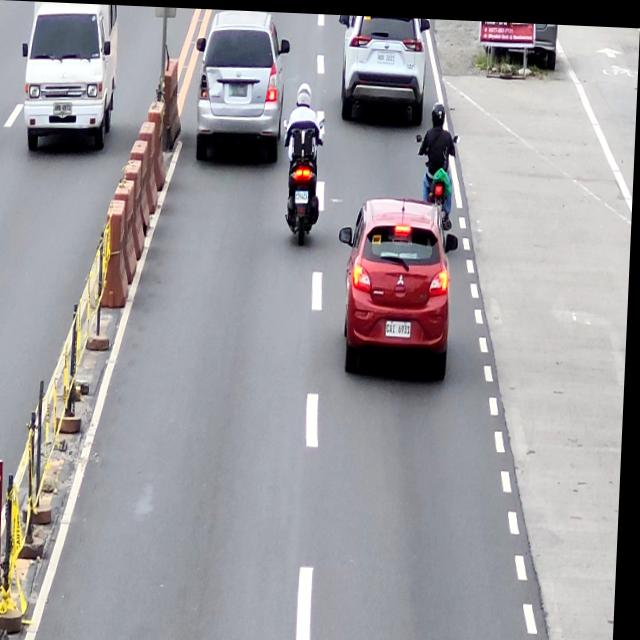Car: (336, 194, 462, 380), (193, 7, 292, 160), (336, 12, 430, 120)
License-Plate: (389, 318, 414, 333), (229, 80, 249, 96), (377, 49, 396, 60), (296, 189, 310, 201)
Motorcycle: (280, 113, 326, 242), (415, 127, 461, 228)
